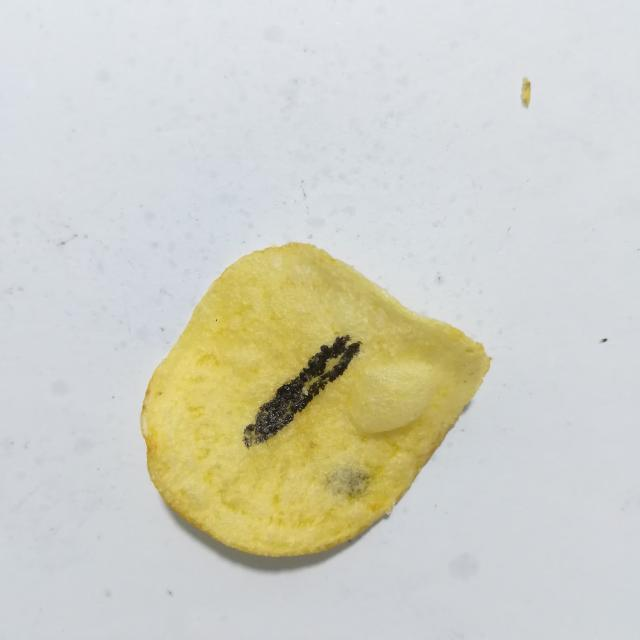chip: (141, 243, 490, 556)
damaged: (243, 335, 362, 448)
semi-damaged: (326, 466, 369, 496)
